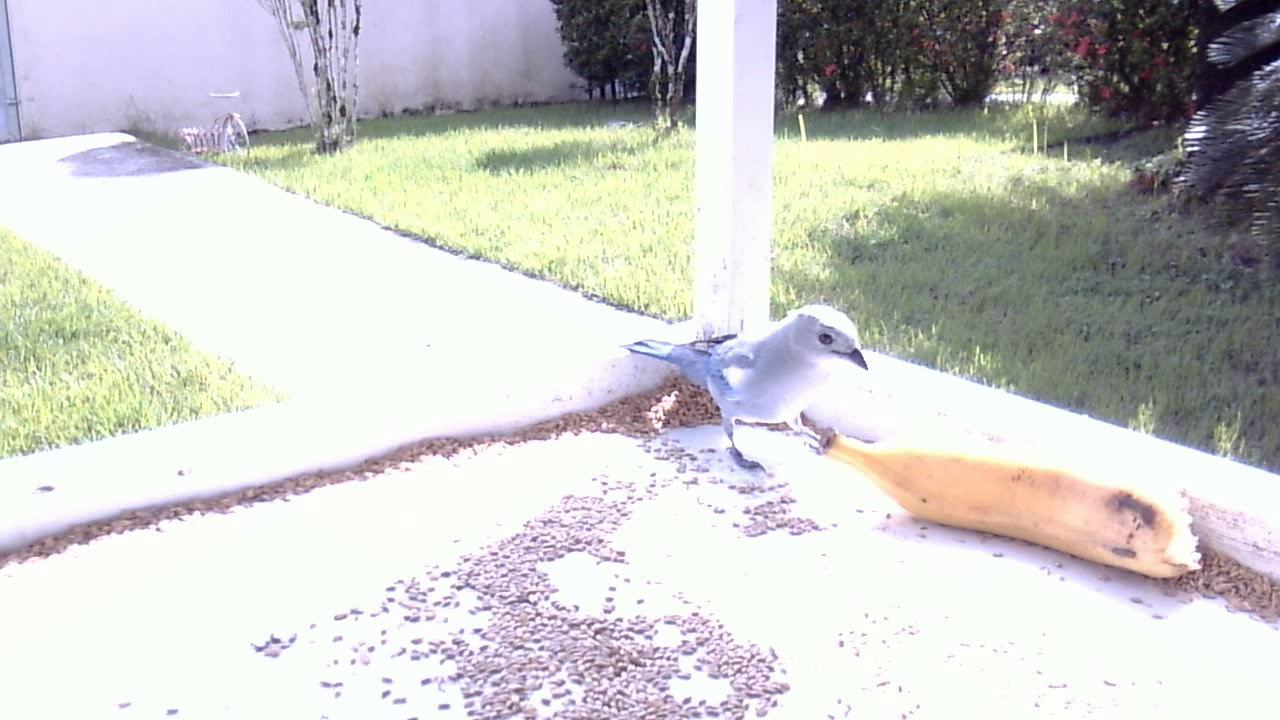sanhaco_da_amazonia: (619, 294, 873, 483)
